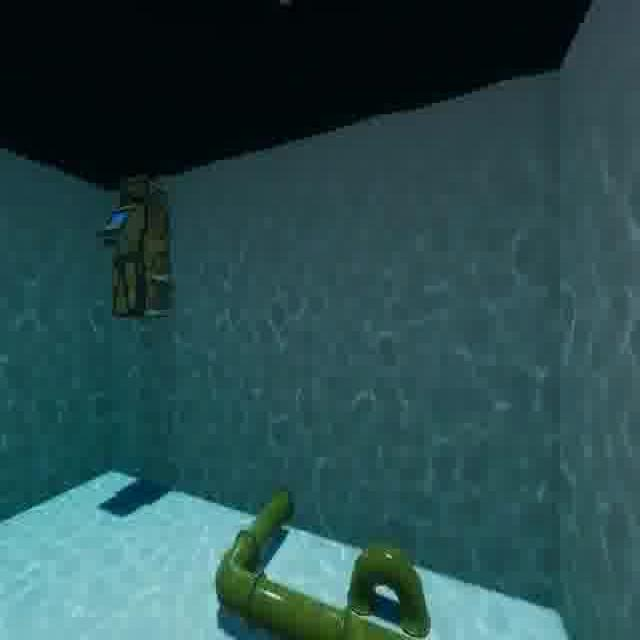Control Panel: (94, 179, 178, 325)
Pipe: (214, 473, 483, 640)
